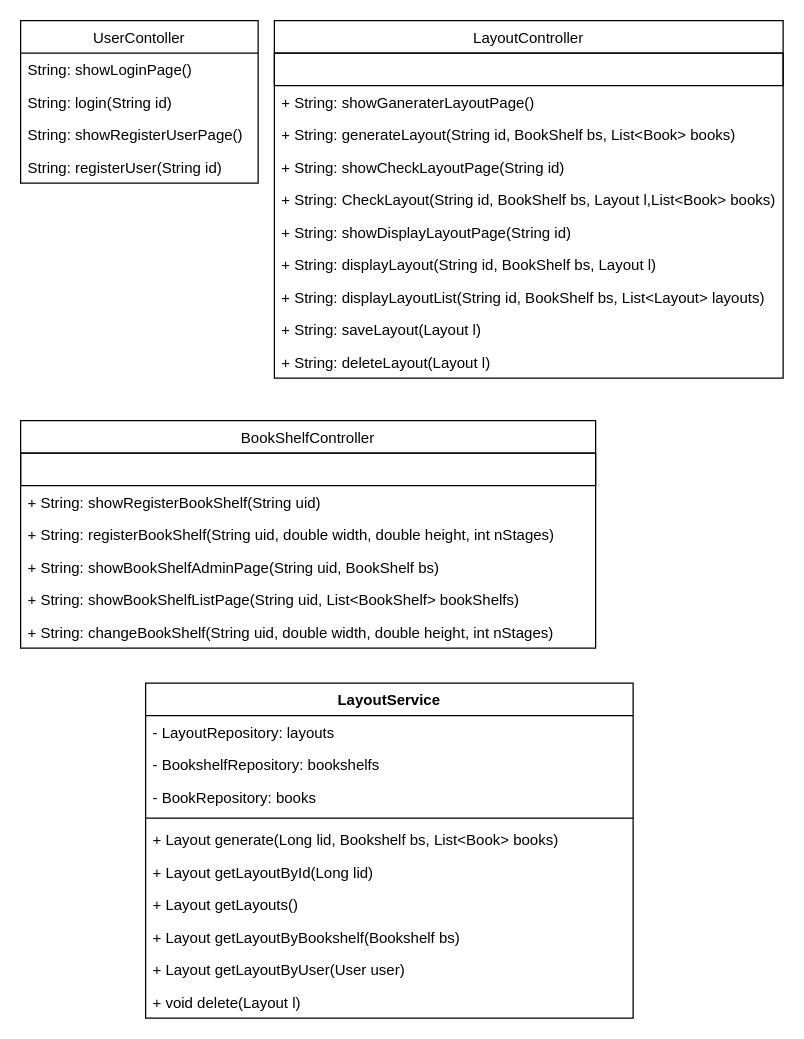
Image size: 804x1039. Some labels were removed from this diagram. The shapes that lost their labels are listed below. From the top down, each one's centre as x and y in pixels, then its label:
the point at 528,69: - LayoutService: service
the point at 307,469: - BookService service
